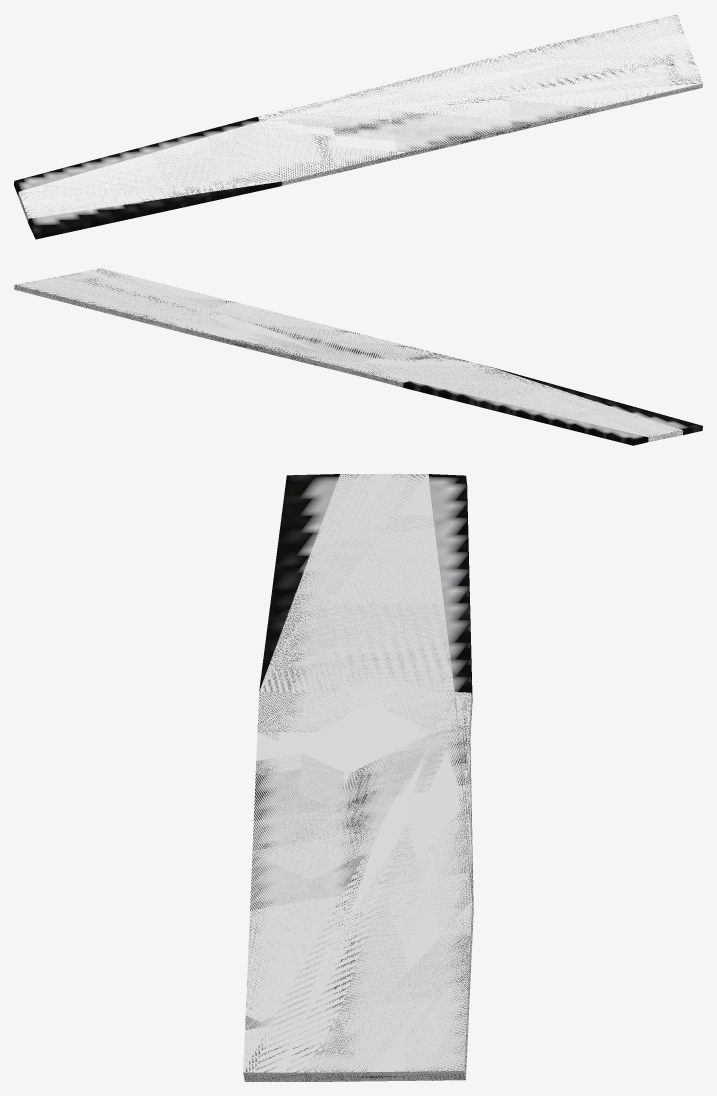
File: leftAileron.dae
3 views of the same model, one above another, from view 1: azimuth 30°, elevation 25°; view 2: azimuth 150°, elevation 25°; view 3: azimuth 270°, elevation 25° (orthographic). The views are drawn at different scales.
Visible parts, largest first — view 1: SketchUp; view 2: SketchUp; view 3: SketchUp.
Boxes of the visible parts, x1,y1,x2,y2 form: SketchUp: [14, 14, 702, 239]; SketchUp: [14, 268, 702, 445]; SketchUp: [243, 474, 473, 1081].
Bounding box in the file's own units: 170 × 26.38 × 5.34.
2 materials, 1 textured.
